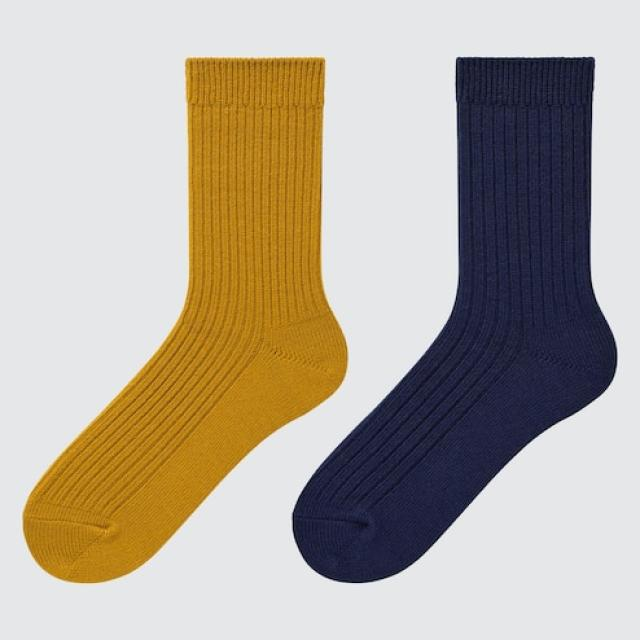sock: (22, 56, 349, 583), (292, 54, 616, 583)
